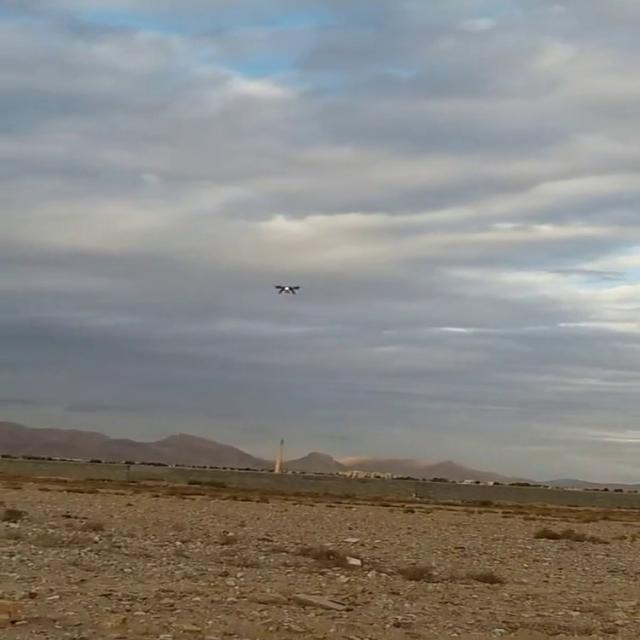drone: (271, 280, 303, 297)
